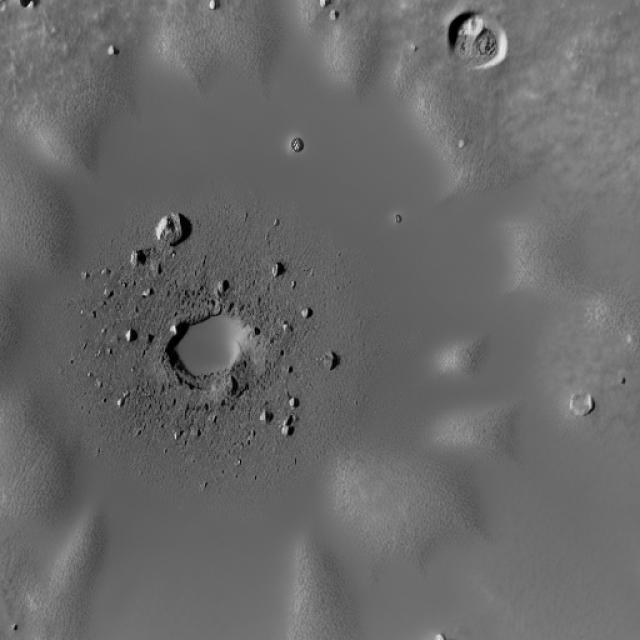crater: (165, 313, 248, 378)
